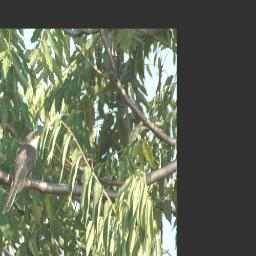Cuckoo: (0, 130, 43, 216)
